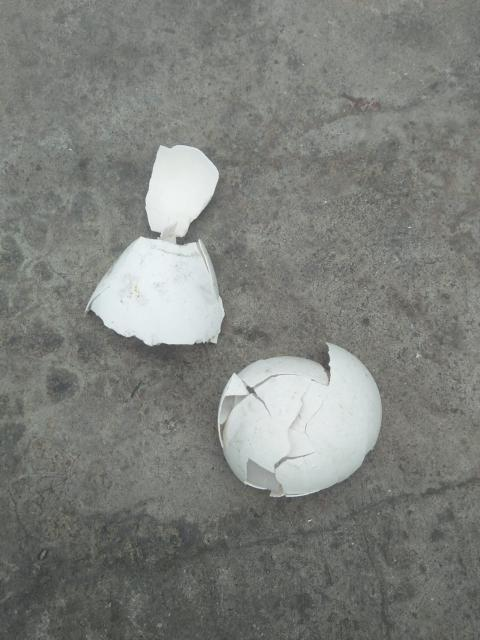Roto: (219, 344, 382, 500), (84, 238, 225, 346), (144, 143, 220, 239)
